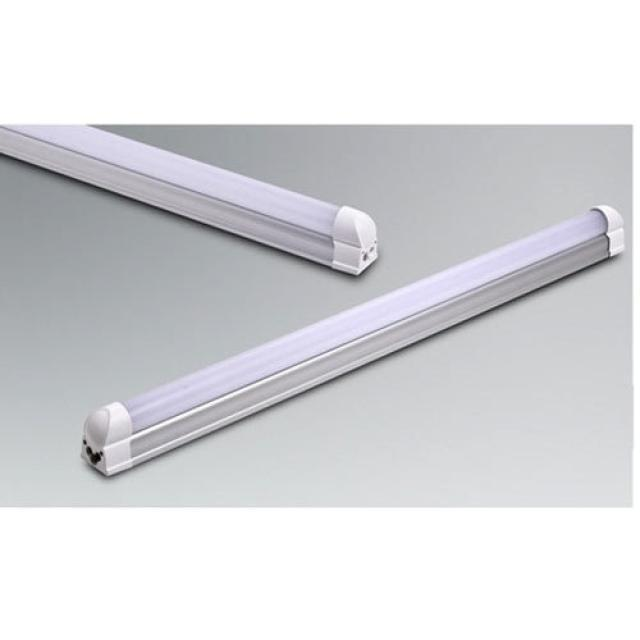tubelight_off: (70, 194, 627, 484), (0, 121, 381, 279)
